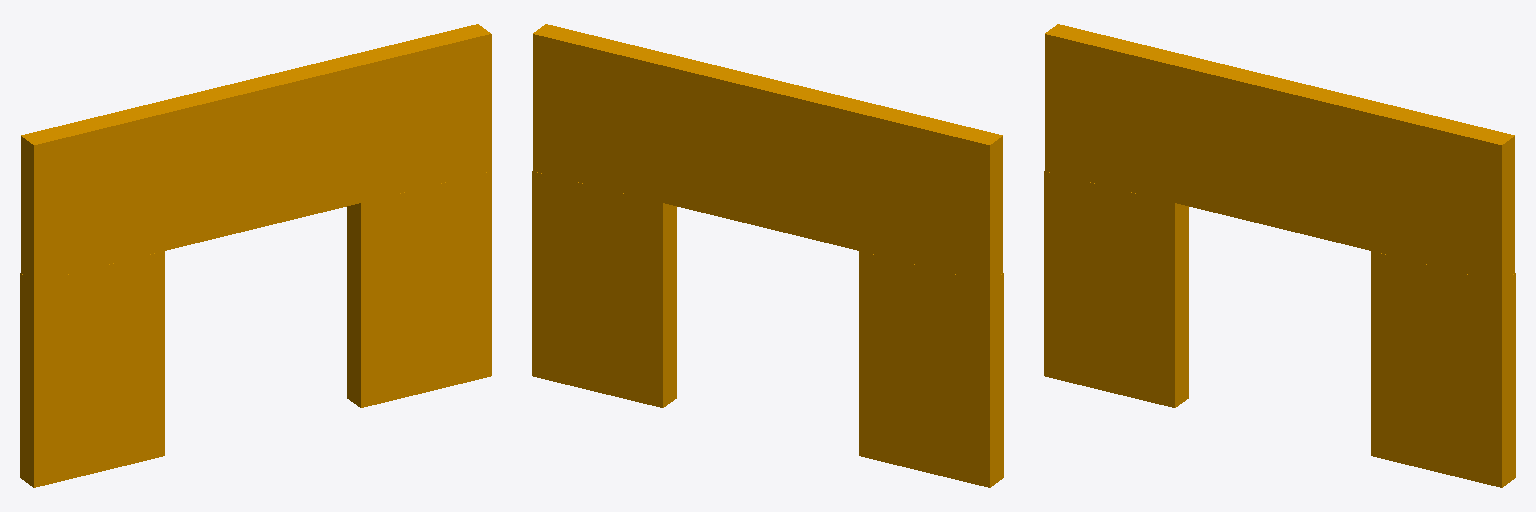
robot.urdf — gate_0_86:
<?xml version="1.0" encoding="UTF-8"?>
<robot name="gate_0_86">
	<link name="base">
		<collision>
			<geometry>
				<mesh filename="../vhacd/gate_0_86_vhacd.obj" scale="1.0 1.0 1.0"/>
			</geometry>
			<origin xyz="0 0 0"/>
			<contact_coefficients mu="0.24" />
		</collision>
		<visual>
			<geometry>
				<mesh filename="../vhacd/gate_0_86_vhacd.obj" scale="1.0 1.0 1.0"/>
			</geometry>
			<origin xyz="0 0 0"/>
		</visual>
		<inertial>
			<mass value="0"/>
			<inertia ixx="0.0" ixy="-0.0" ixz="-0.0" iyy="0.0" iyz="-0.0" izz="0.0" />
			<origin xyz="0.9999999896048861 0.05000000074505806 0.81440865217099"/>
		</inertial>
	</link>
</robot>

--- What the picture shows (computed from the rendered views, not written in the file) ---
3 views of the same robot in one strip: view 1: azimuth 30°, elevation 25°; view 2: azimuth 150°, elevation 25°; view 3: azimuth 330°, elevation 25° (orthographic).
Robot: gate_0_86 — 1 links, 0 joints (none); root link base; default pose: all joints at 0.
Links seen in each view (by area): view 1: base; view 2: base; view 3: base.
Boxes of the visible links, <box> form: base: <box>20,24,491,487</box>; base: <box>532,24,1003,487</box>; base: <box>1044,24,1515,487</box>.
Size in the robot's own frame: 2 by 0.1024 by 1.43 metres.
1 mesh visuals loaded from 1 distinct referenced files (1 OBJ).